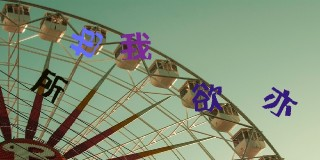也: (71, 28, 103, 60)
亦: (261, 84, 298, 119)
我: (120, 30, 153, 60)
所: (29, 67, 67, 103)
欲: (192, 82, 225, 112)
